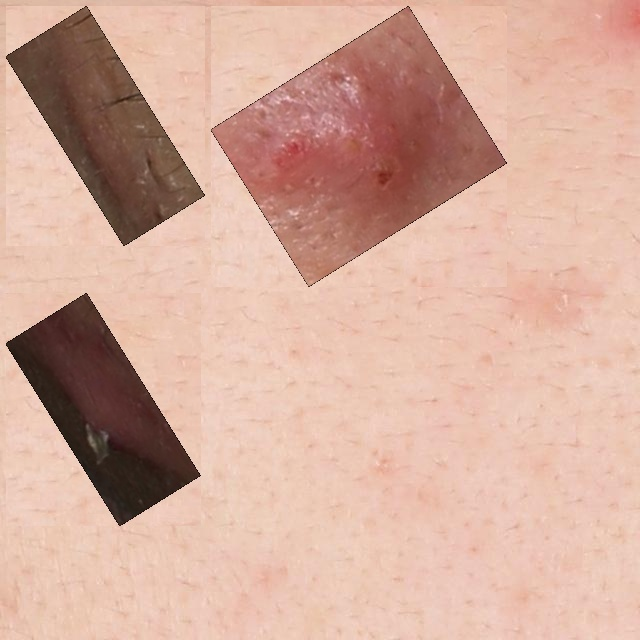nodule: (222, 17, 496, 275), (17, 17, 194, 234), (17, 304, 189, 515)
